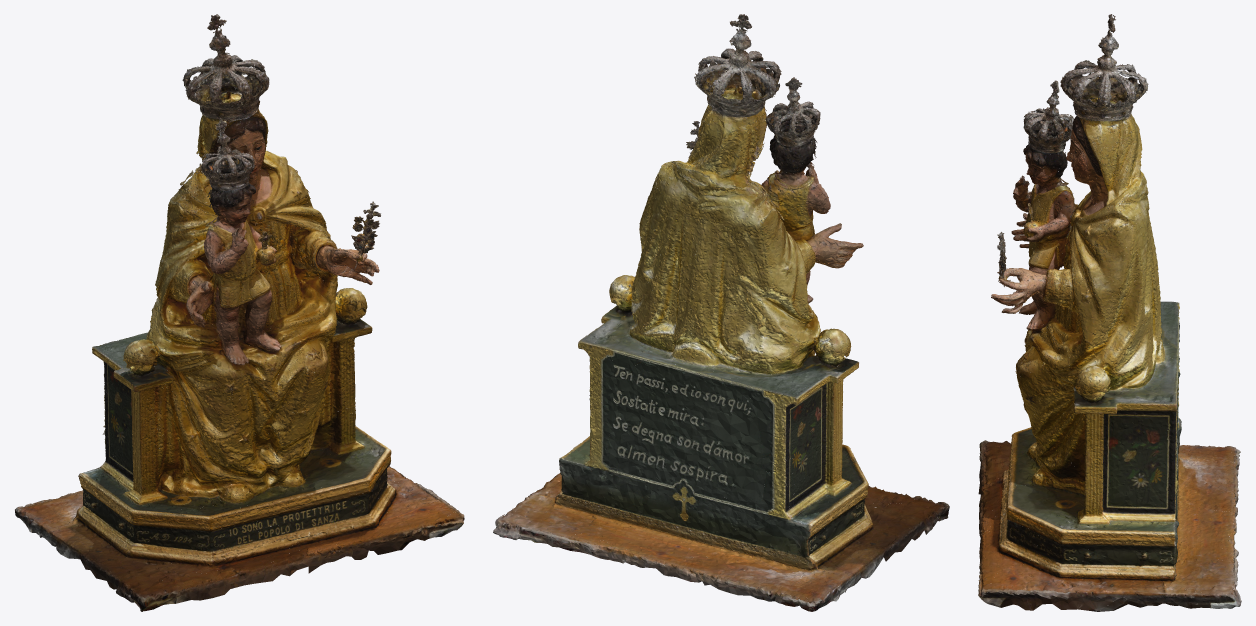
The model's file is madonna-della-neve.glb.
The picture shows the model from 3 angles, left to right: view 1: azimuth 30°, elevation 25°; view 2: azimuth 150°, elevation 25°; view 3: azimuth 270°, elevation 25°; orthographic projection. The views are drawn at different scales.
Bounding box in the file's own units: 25.4 × 37.96 × 17.82.
Materials: 2 (2 with a texture image).
